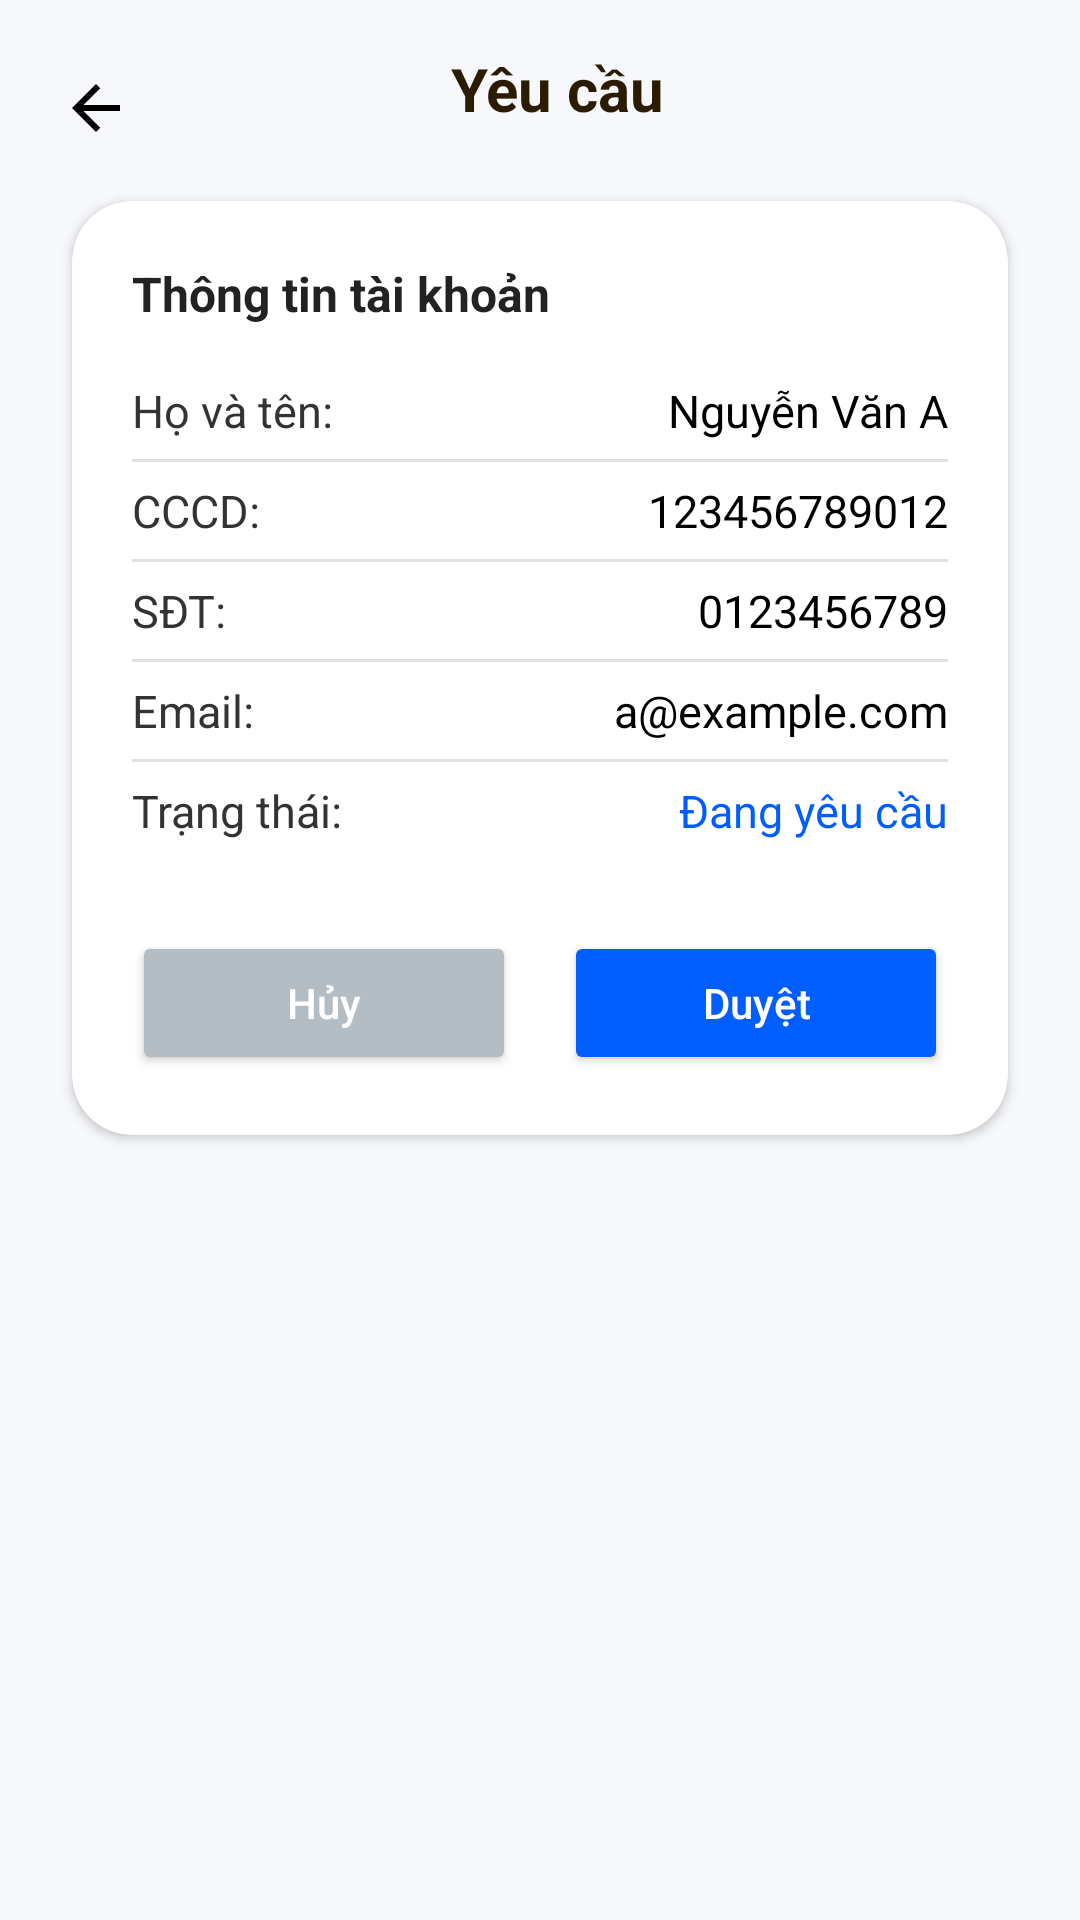

Named icons in this screenshot (1080 x 1920) and their centers, (x=x, y=y):
Back: (x=96, y=108)
